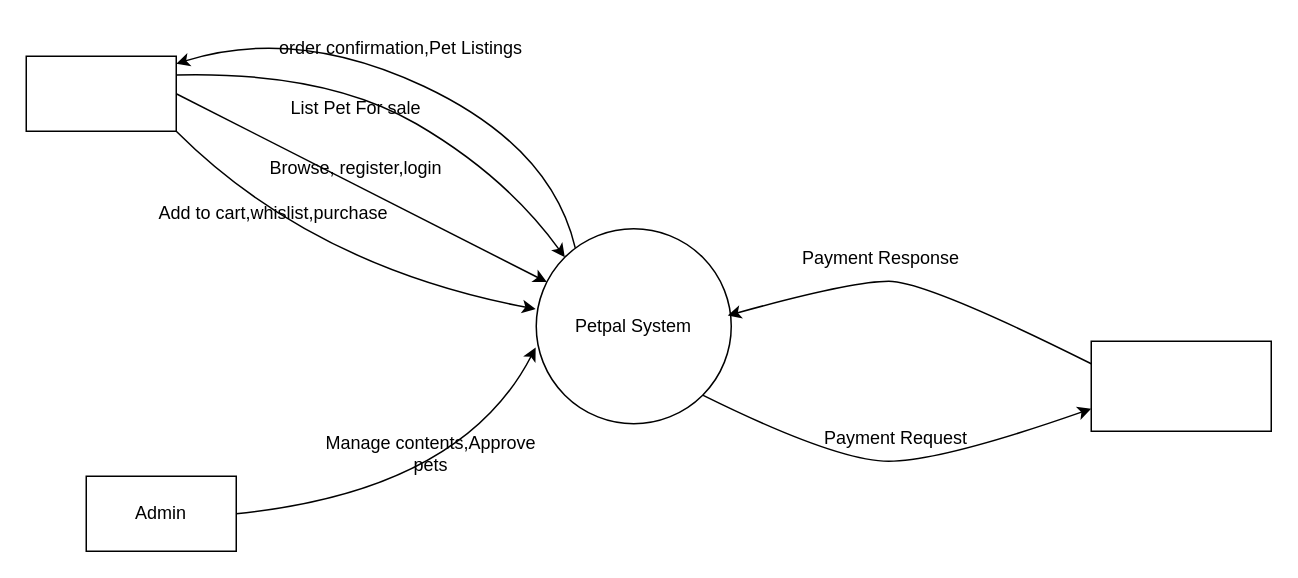
The diagram is 1298 pixels wide and 578 high, and some of its shapes have lost their labels. The shapes that lost their labels are listed below. From the top down, each one's box as (x1, y1, x2, y2) in pixels, then its label:
(25, 55, 176, 131): User/customer
(1090, 340, 1271, 431): Esewa Payment
